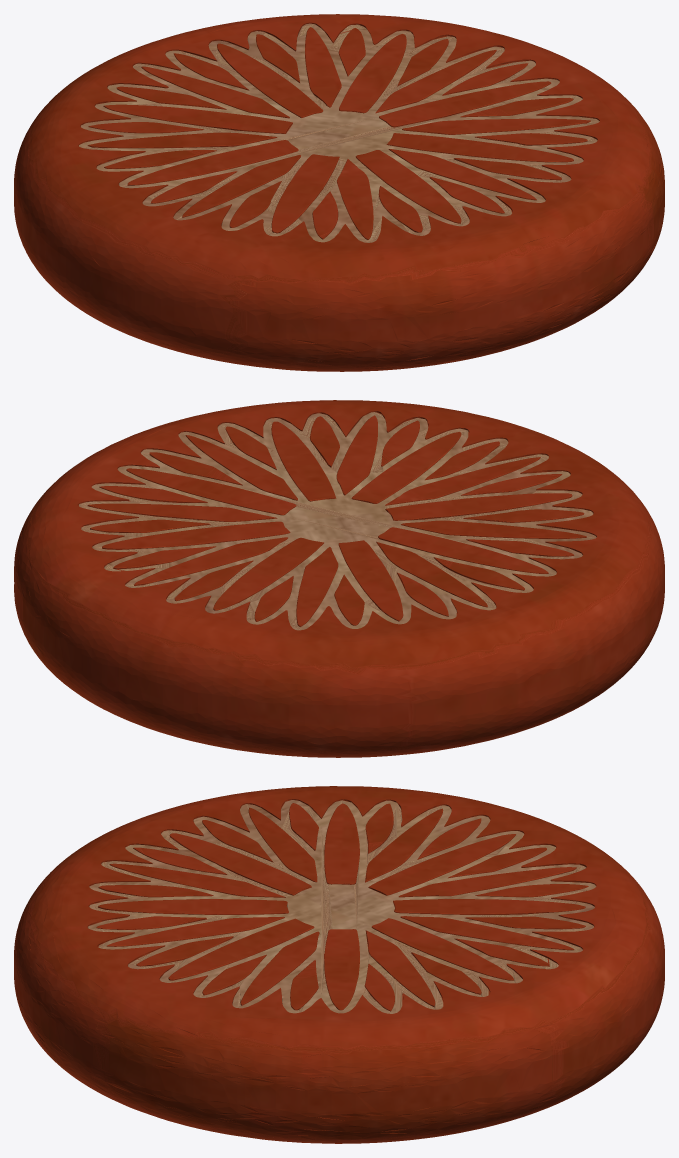
Rendered from Tile_Chrys.glb.
3 renders of one model, top to bottom at view 1: azimuth 30°, elevation 25°; view 2: azimuth 150°, elevation 25°; view 3: azimuth 270°, elevation 25°, orthographic.
Visible parts, largest first — view 1: Tile, Face; view 2: Tile, Face; view 3: Tile, Face.
Boxes of the visible parts, x1,y1,x2,y2 form: Tile: (14,14,664,371); Face: (79,23,599,242); Tile: (14,400,664,757); Face: (79,412,596,630); Tile: (14,786,664,1143); Face: (87,800,596,1013).
Bounding box in the file's own units: 2 × 0.4 × 2.
2 materials, 2 textured.
